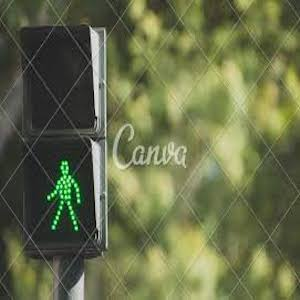green: (40, 159, 97, 237)
